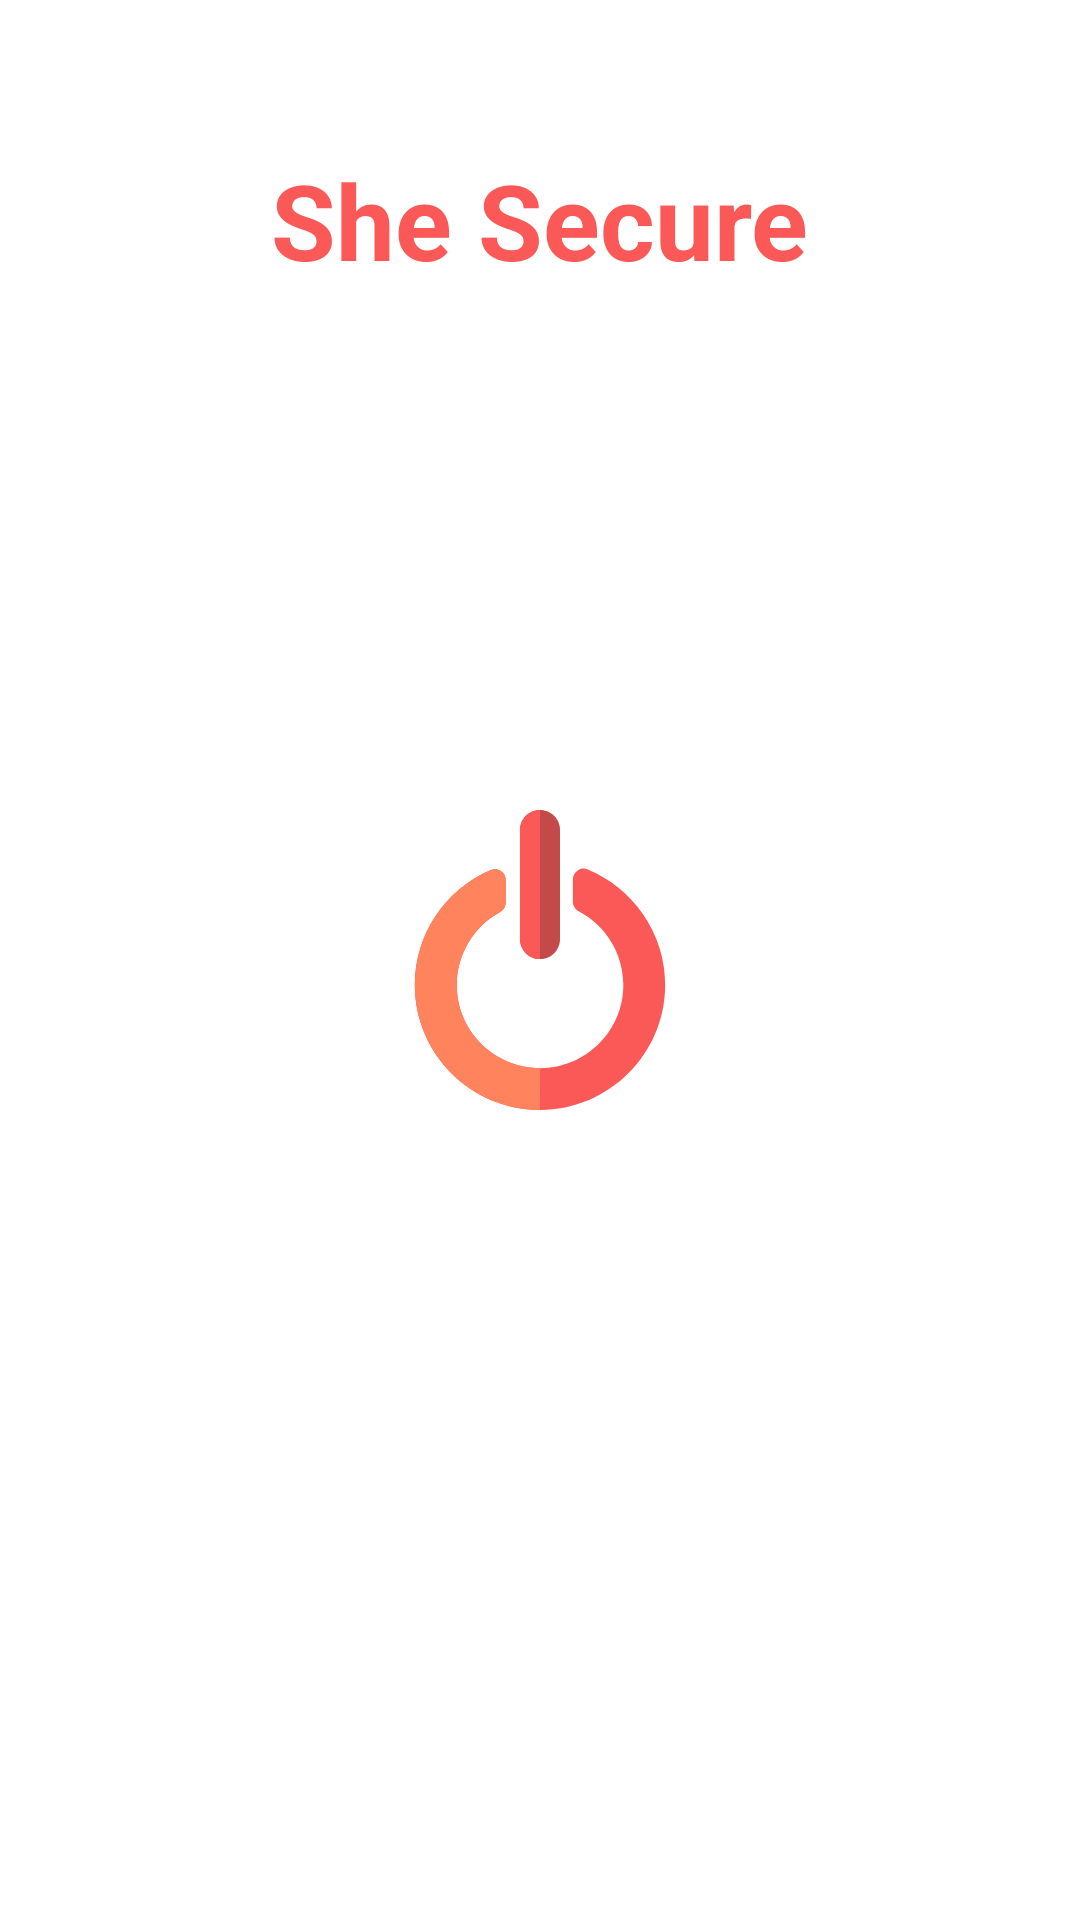

Named icons in this screenshot (1080px×1920px) and their centers, (x=x, y=y):
Power on/off button: (x=539, y=960)
